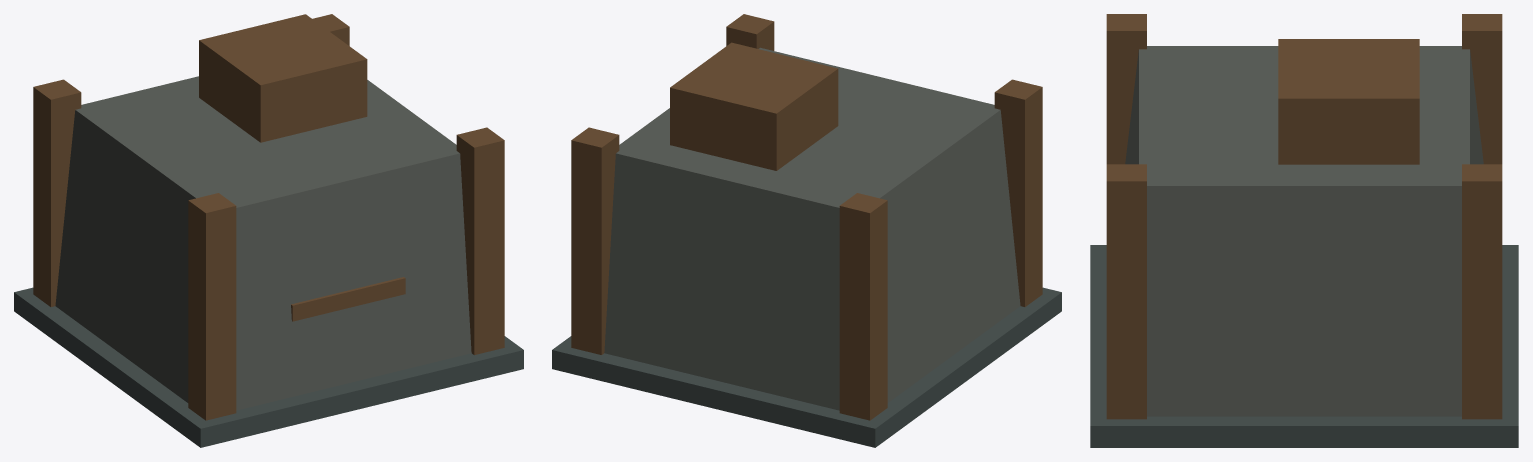
The model's file is _calib_floor.glb.
3 renders of one model, left to right at view 1: azimuth 30°, elevation 25°; view 2: azimuth 150°, elevation 25°; view 3: azimuth 270°, elevation 25°, orthographic. The views are drawn at different scales.
Visible parts, largest first — view 1: calib_block, calib_top, calib_plinth, calib_post-1-1, calib_post1-1, calib_post-11, calib_lintel, calib_post11; view 2: calib_block, calib_top, calib_plinth, calib_post-11, calib_post11, calib_post-1-1, calib_post1-1; view 3: calib_block, calib_plinth, calib_top, calib_post1-1, calib_post11, calib_post-1-1, calib_post-11.
Part boxes in pixels (x1,y1,x2,y2): calib_block: [55, 76, 471, 410]; calib_top: [199, 14, 367, 142]; calib_plinth: [14, 287, 523, 447]; calib_post-1-1: [188, 193, 236, 420]; calib_post1-1: [456, 127, 504, 354]; calib_post-11: [33, 79, 81, 306]; calib_lintel: [291, 277, 405, 321]; calib_post11: [312, 14, 349, 45]; calib_block: [604, 47, 1020, 410]; calib_top: [670, 42, 838, 170]; calib_plinth: [552, 287, 1061, 447]; calib_post-11: [839, 193, 887, 420]; calib_post11: [571, 127, 619, 354]; calib_post-1-1: [994, 79, 1042, 306]; calib_post1-1: [726, 14, 774, 50]; calib_block: [1125, 46, 1483, 416]; calib_plinth: [1090, 245, 1518, 447]; calib_top: [1278, 39, 1419, 164]; calib_post1-1: [1106, 164, 1146, 419]; calib_post11: [1462, 164, 1502, 419]; calib_post-1-1: [1106, 14, 1146, 164]; calib_post-11: [1462, 14, 1502, 164].
Size of the model in its own units: 2.12 by 1.68 by 2.12.
